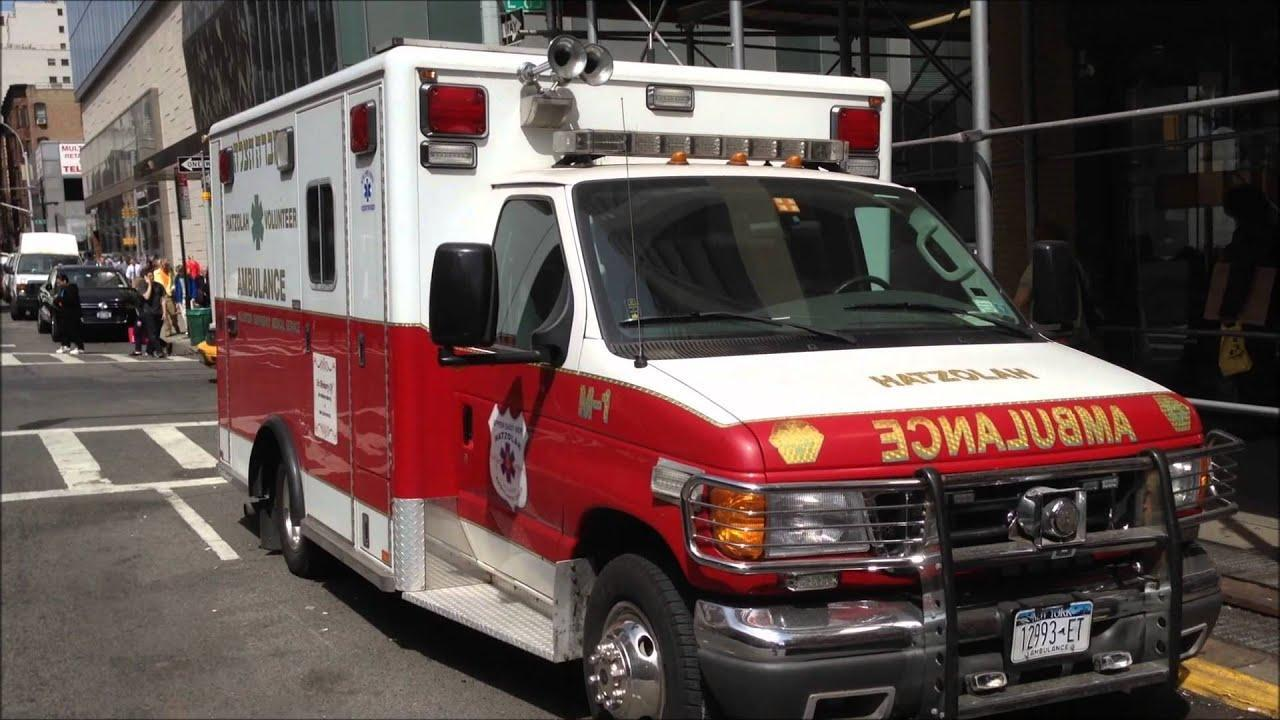Ambulance: (870, 406, 1140, 476)
